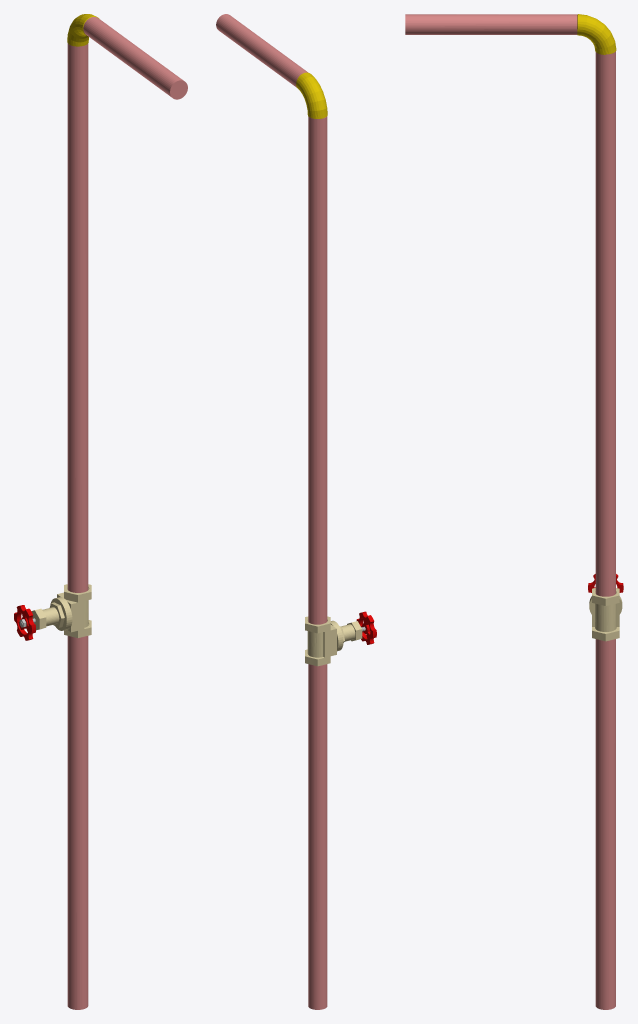
File: recirculacion.glb
3 views of the same model, side by side, from view 1: azimuth 30°, elevation 25°; view 2: azimuth 210°, elevation 25°; view 3: azimuth 270°, elevation 25° (orthographic). The views are drawn at different scales.
Parts seen in each view (by area): view 1: n4_p0_255_92_92, n8_p0_255_92_92, n12_p0_255_223_127, n6_p0_255_191_0, n24_p0_255_0_0; view 2: n4_p0_255_92_92, n8_p0_255_92_92, n6_p0_255_191_0, n12_p0_255_223_127; view 3: n4_p0_255_92_92, n8_p0_255_92_92, n6_p0_255_191_0, n12_p0_255_223_127.
Part boxes in pixels (x1,y1,x2,y2): n4_p0_255_92_92: (67, 43, 88, 1009); n8_p0_255_92_92: (83, 17, 187, 99); n12_p0_255_223_127: (57, 592, 88, 632); n6_p0_255_191_0: (67, 14, 99, 46); n24_p0_255_0_0: (14, 605, 35, 640); n4_p0_255_92_92: (308, 116, 327, 1009); n8_p0_255_92_92: (216, 14, 307, 87); n6_p0_255_191_0: (296, 72, 327, 118); n12_p0_255_223_127: (307, 624, 336, 657); n4_p0_255_92_92: (595, 51, 615, 1009); n8_p0_255_92_92: (405, 14, 577, 34); n6_p0_255_191_0: (577, 14, 616, 54); n12_p0_255_223_127: (592, 603, 619, 631).
Size of the model in its own units: 0.1973 by 2.66 by 0.5307.
